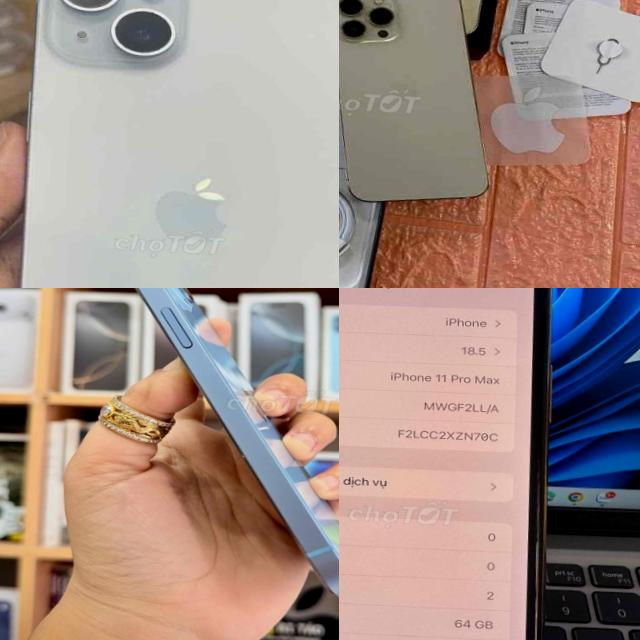gen_11: (339, 288, 553, 640)
gen_12_13: (339, 0, 512, 207)
gen_14: (81, 288, 339, 611)
gen_15: (0, 0, 339, 288)
